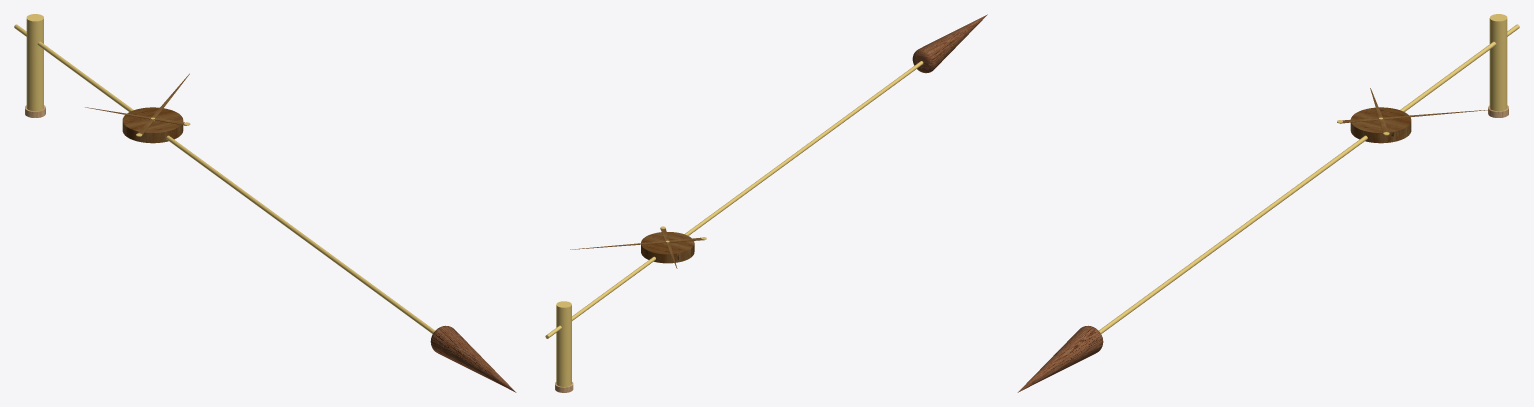
Rendered from mile-watch.glb.
3 views of the same model, side by side, from view 1: azimuth 30°, elevation 25°; view 2: azimuth 150°, elevation 25°; view 3: azimuth 330°, elevation 25° (orthographic). The views are drawn at different scales.
Parts seen in each view (by area): view 1: mile, Cylinder.002, wall holder, Circle; view 2: mile, wall holder, Cylinder.002, Circle; view 3: mile, wall holder, Cylinder.002, Circle.
Boxes of the visible parts, left/top/right/bottom form: mile: left=14, top=24, right=435, bottom=333; Cylinder.002: left=430, top=325, right=516, bottom=392; wall holder: left=26, top=14, right=43, bottom=111; Circle: left=122, top=107, right=183, bottom=143; mile: left=545, top=61, right=923, bottom=338; wall holder: left=556, top=301, right=571, bottom=386; Cylinder.002: left=912, top=14, right=987, bottom=73; Circle: left=641, top=232, right=694, bottom=263; mile: left=1098, top=24, right=1519, bottom=333; wall holder: left=1489, top=14, right=1507, bottom=111; Cylinder.002: left=1017, top=325, right=1103, bottom=392; Circle: left=1350, top=107, right=1411, bottom=143.
Size of the model in its own units: 0.5568 by 0.4483 by 4.24.
Materials: 5 (4 with a texture image).
